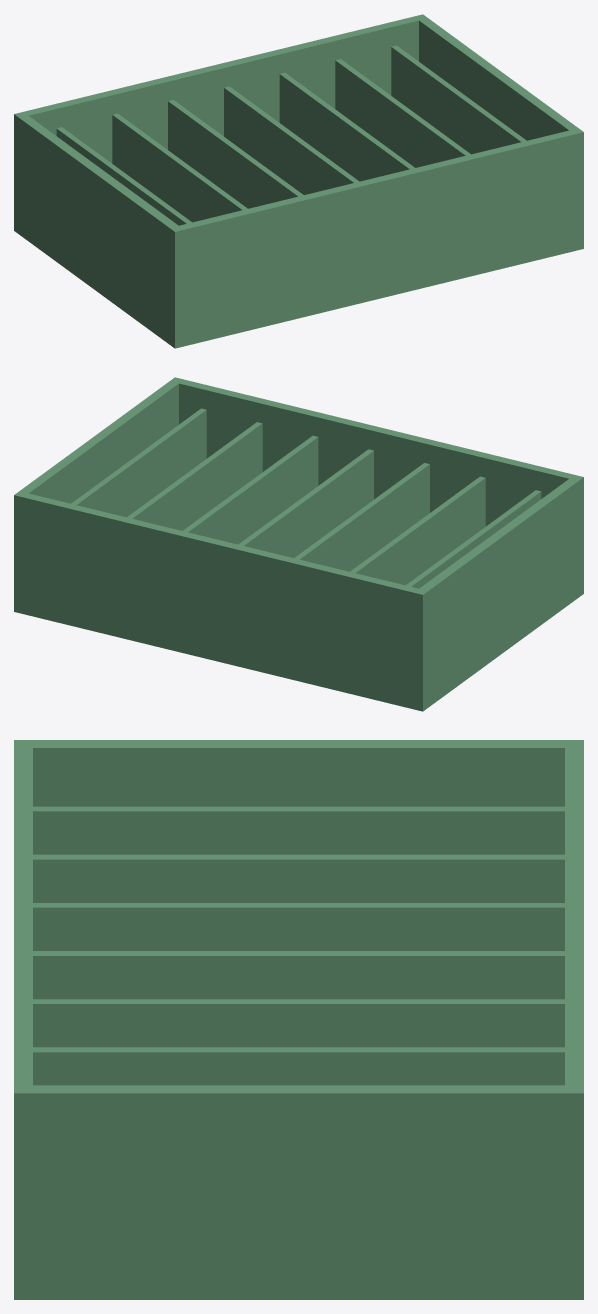
File: DishRack.gltf
3 renders of one model, top to bottom at view 1: azimuth 30°, elevation 25°; view 2: azimuth 150°, elevation 25°; view 3: azimuth 270°, elevation 25°, orthographic. The views are drawn at different scales.
Visible parts, largest first — view 1: A_DishRack; view 2: A_DishRack; view 3: A_DishRack.
Part boxes in pixels (<box>): A_DishRack: <box>14,14,583,348</box>; A_DishRack: <box>14,377,583,711</box>; A_DishRack: <box>14,740,583,1299</box>.
Size of the model in its own units: 0.44 by 0.12 by 0.3.
